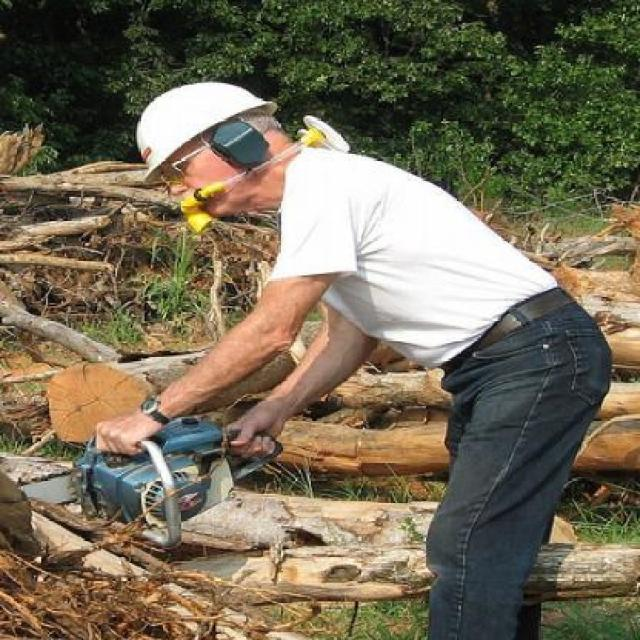Chainsaw: (17, 420, 281, 552)
